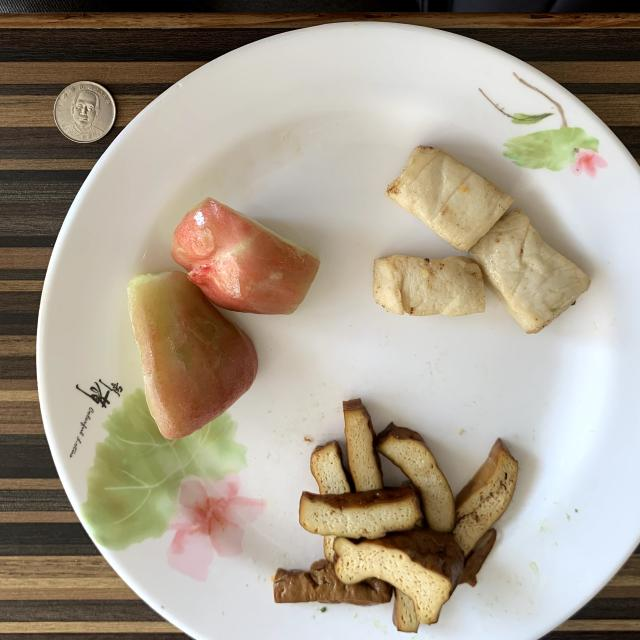coin: (54, 81, 116, 142)
creamy tofu -without sauce-: (374, 146, 590, 334)
firm tofu: (274, 400, 518, 631)
